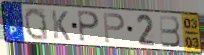2: (135, 14, 157, 48)
B: (158, 15, 183, 49)
K: (50, 9, 72, 42)
P: (77, 10, 101, 44), (102, 11, 126, 45)
Q: (23, 7, 50, 42)
